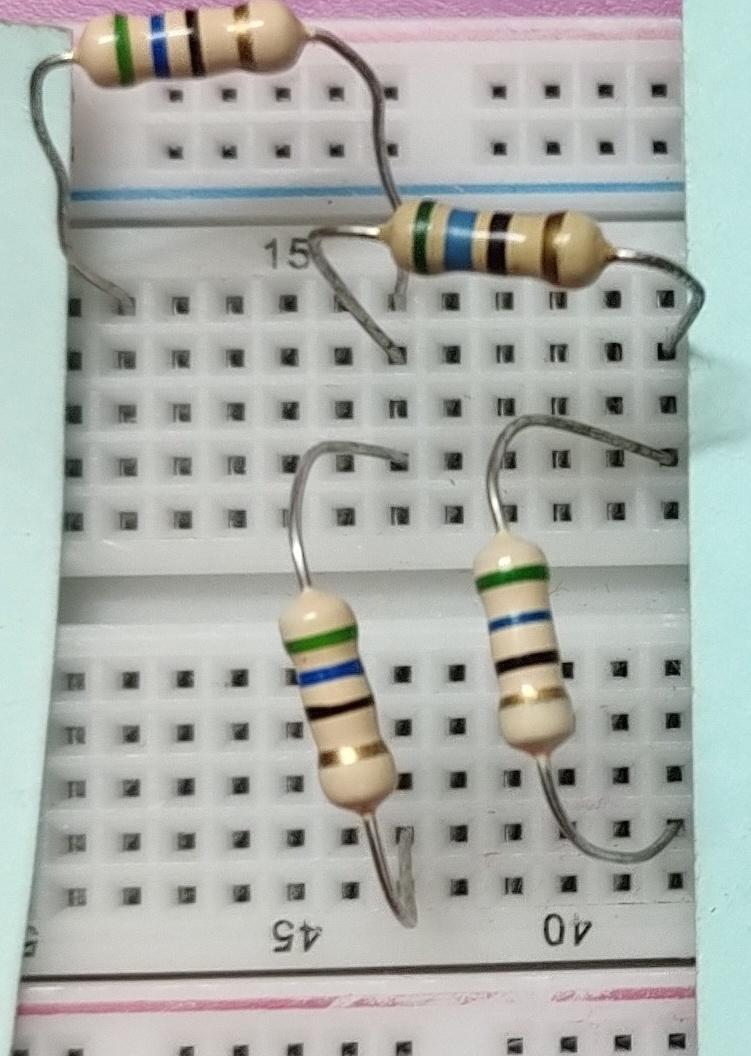resistor: (265, 569, 408, 824), (365, 177, 617, 298), (469, 537, 587, 765), (65, 0, 314, 97)
